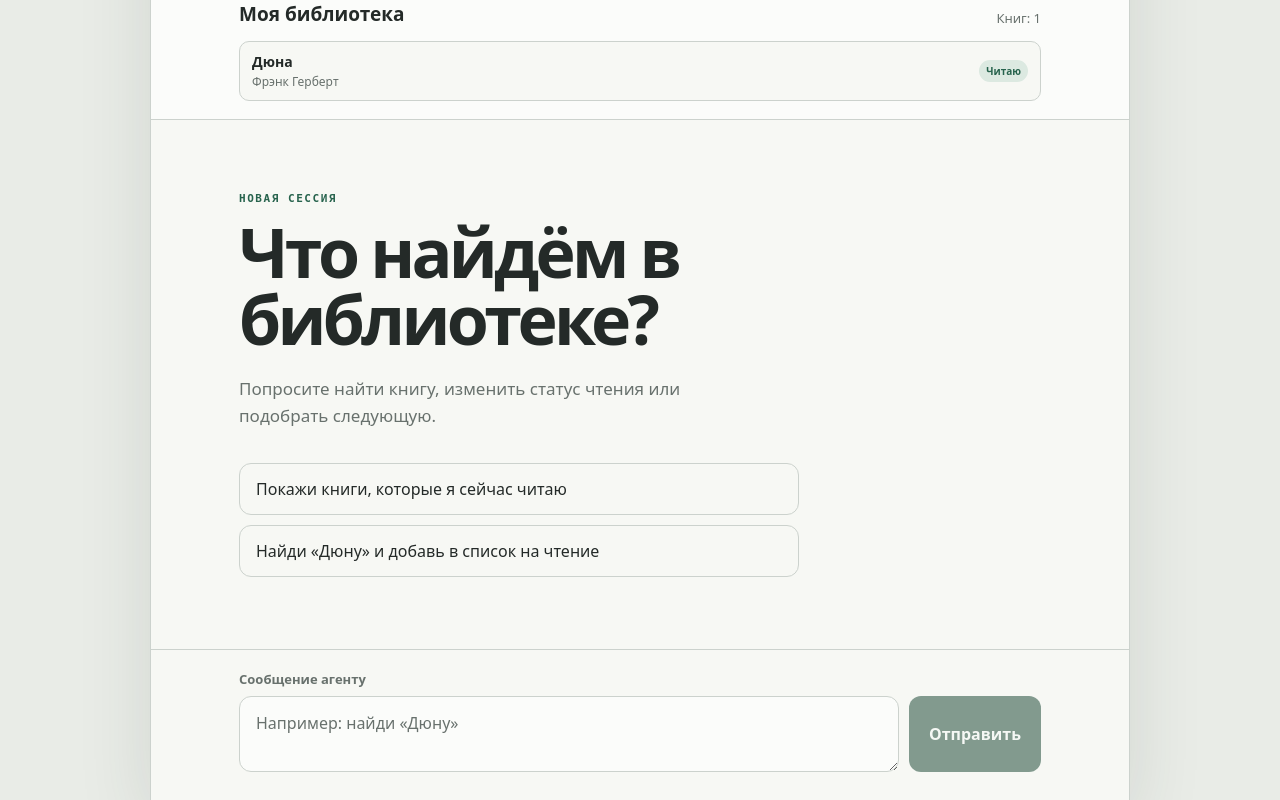
Test: Library panel and MVP scenarios › does not invent a library change after a failed write run
(page scrolled)
Type "Отметь Дюну как прочитанную" into the text box labelled "Сообщение агенту". click: (569, 734)
box: [239, 696, 899, 772]
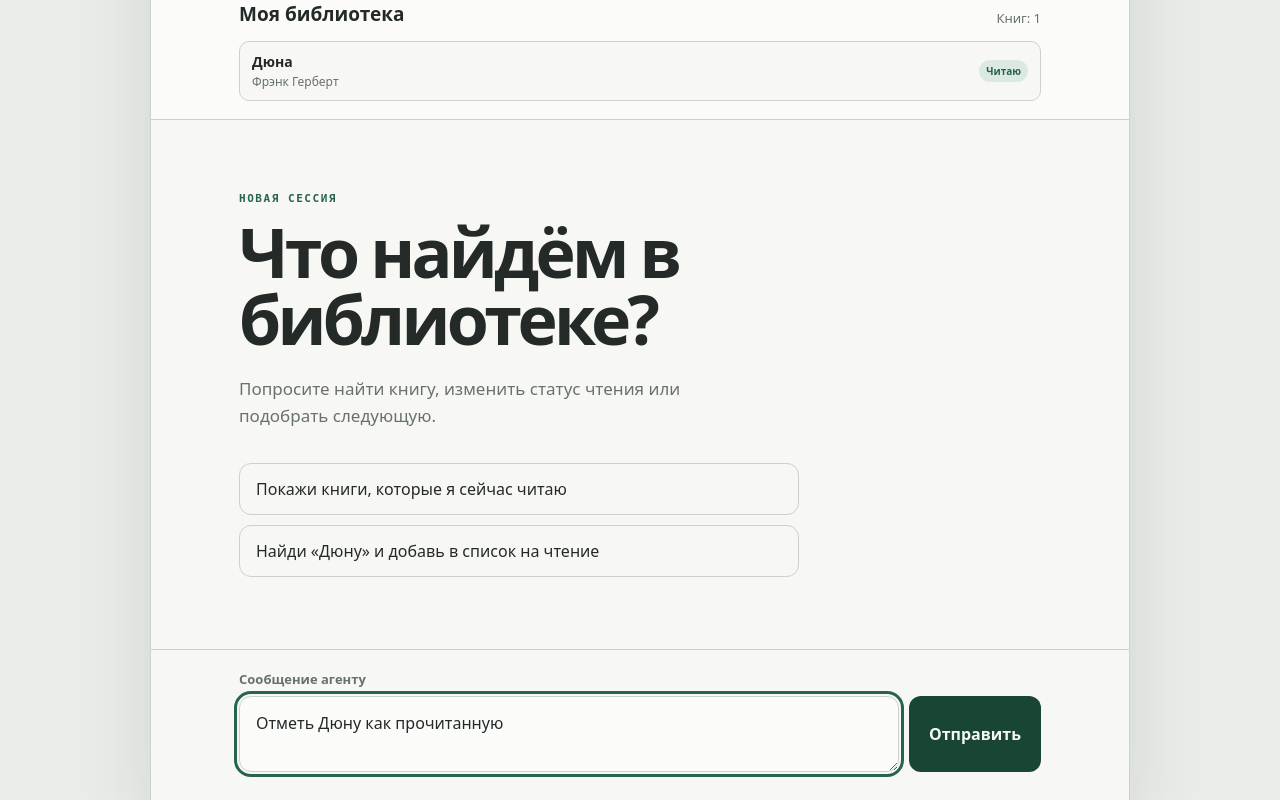
Click the button "Отправить". click: (975, 734)
box: [909, 696, 1041, 772]
(page scrolled)
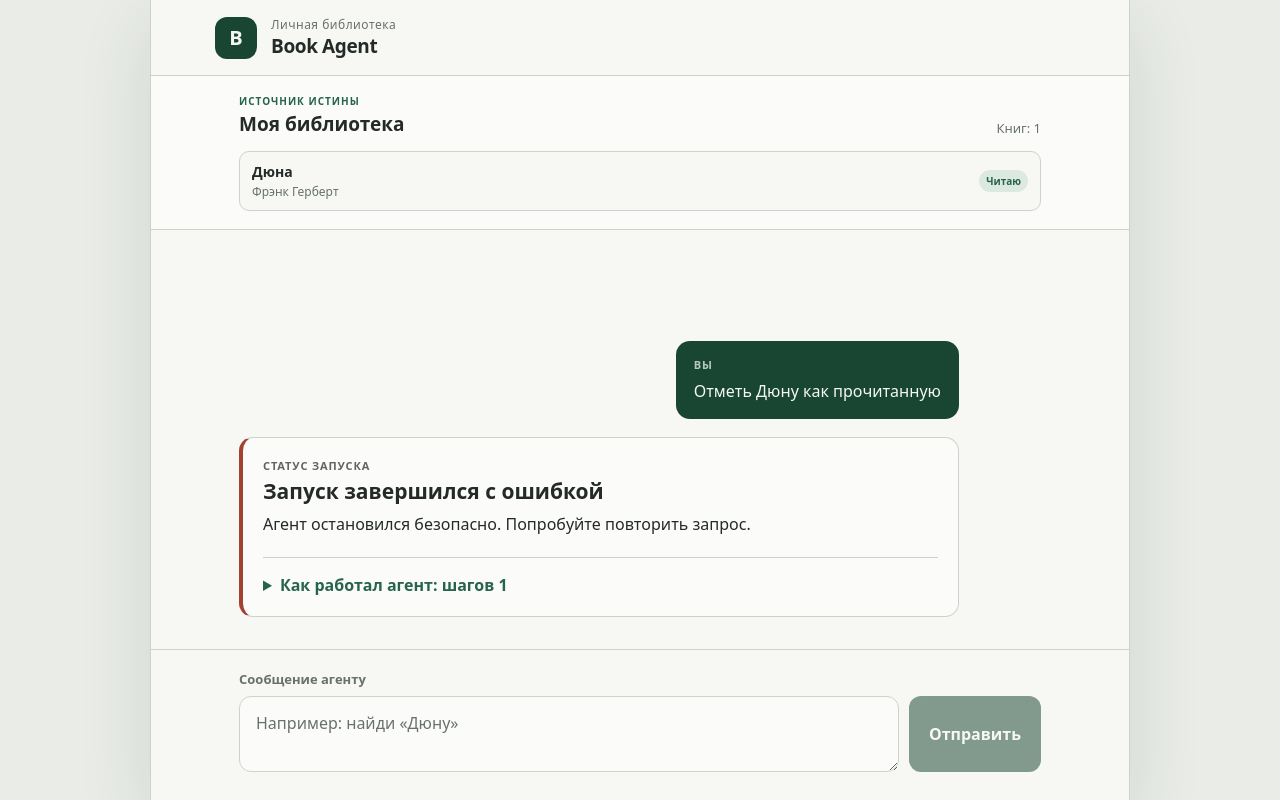
Expected: the text "Читаю" is shown, [979, 170, 1028, 192]
Expected: the heading "Запуск завершился с ошибкой" is shown, [263, 477, 604, 505]
